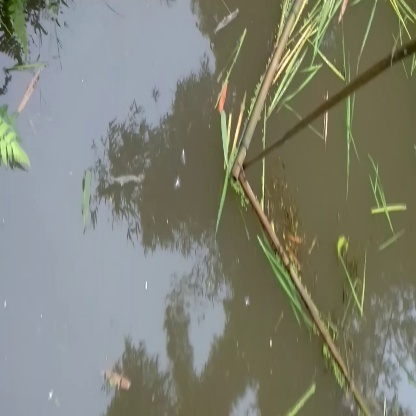branch: (237, 179, 367, 400)
